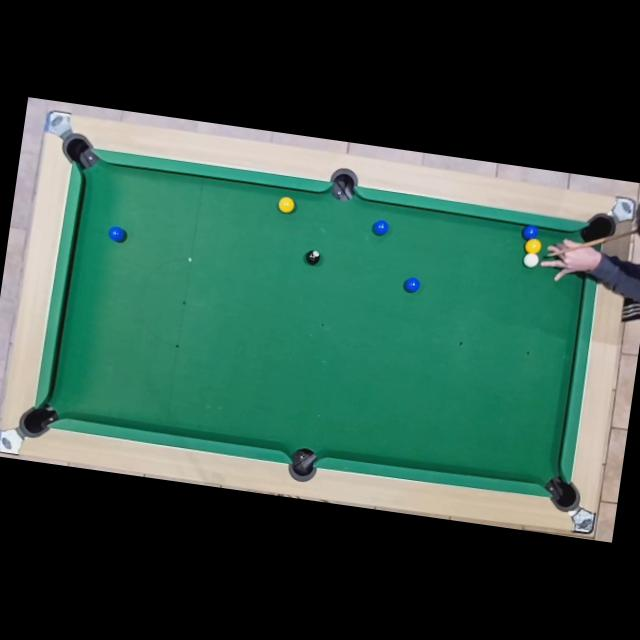Ball: (107, 226, 127, 244), (402, 278, 421, 296), (278, 196, 296, 214), (523, 225, 541, 242), (372, 219, 389, 236), (522, 252, 539, 269), (524, 240, 542, 256), (305, 250, 322, 266)
